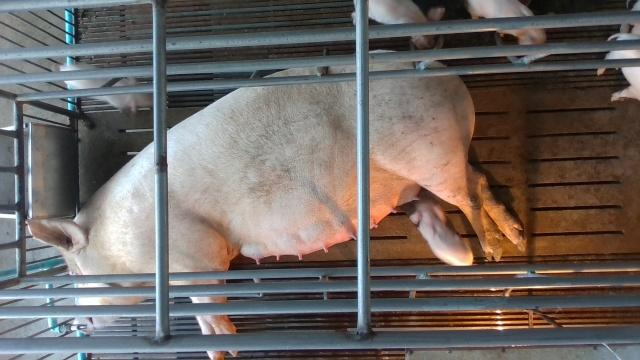piglet: (60, 64, 149, 115), (411, 199, 473, 265), (369, 0, 444, 49), (469, 0, 546, 45), (596, 32, 640, 102)
sow-sleep-lactate: (22, 47, 526, 360)
